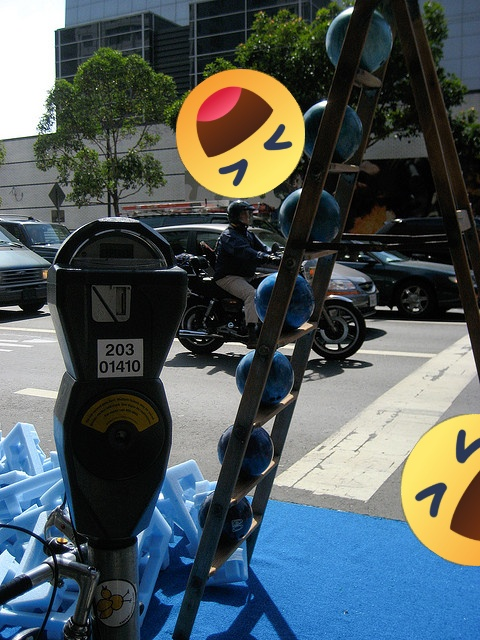haha: (176, 69, 305, 198), (401, 414, 480, 566)
